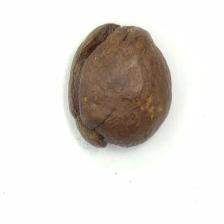NG: (68, 26, 126, 149)
